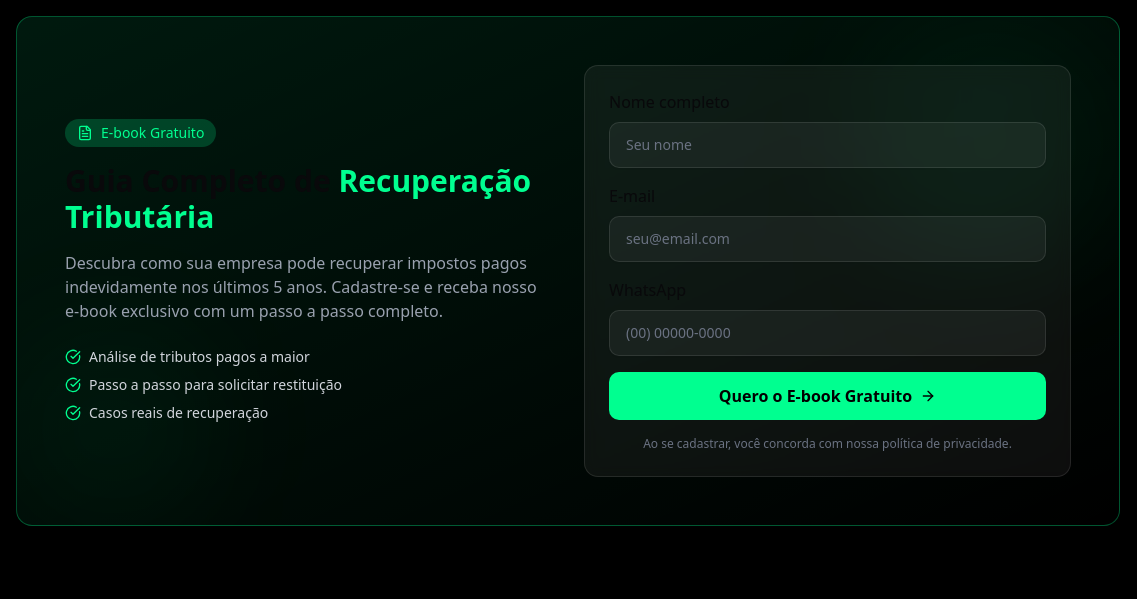
Test: NewsletterSection › validates required fields
# Try to submit empty form
Click the button "Quero o E-book Gratuito": point(828, 396) [609,372,1046,420]
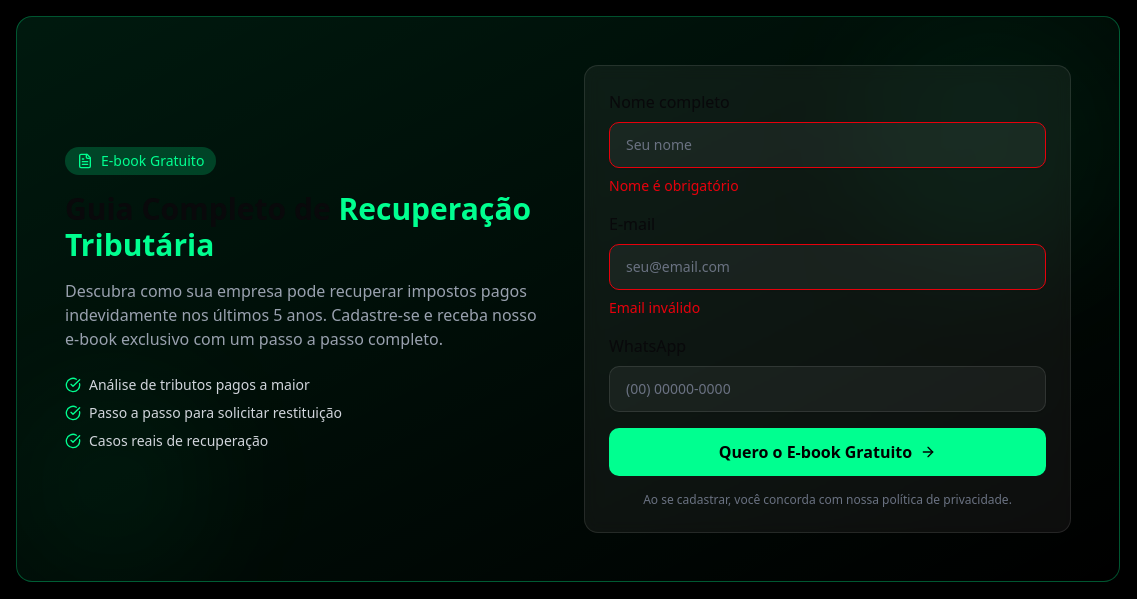
Result: the text "Nome é obrigatório" is shown at [609,176,739,195]
Result: the text "Email inválido" is shown at [609,298,700,317]
